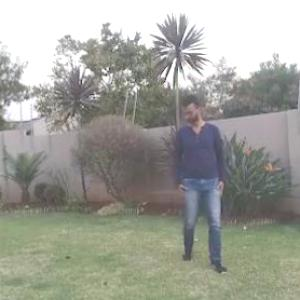follow: (174, 90, 232, 272)
